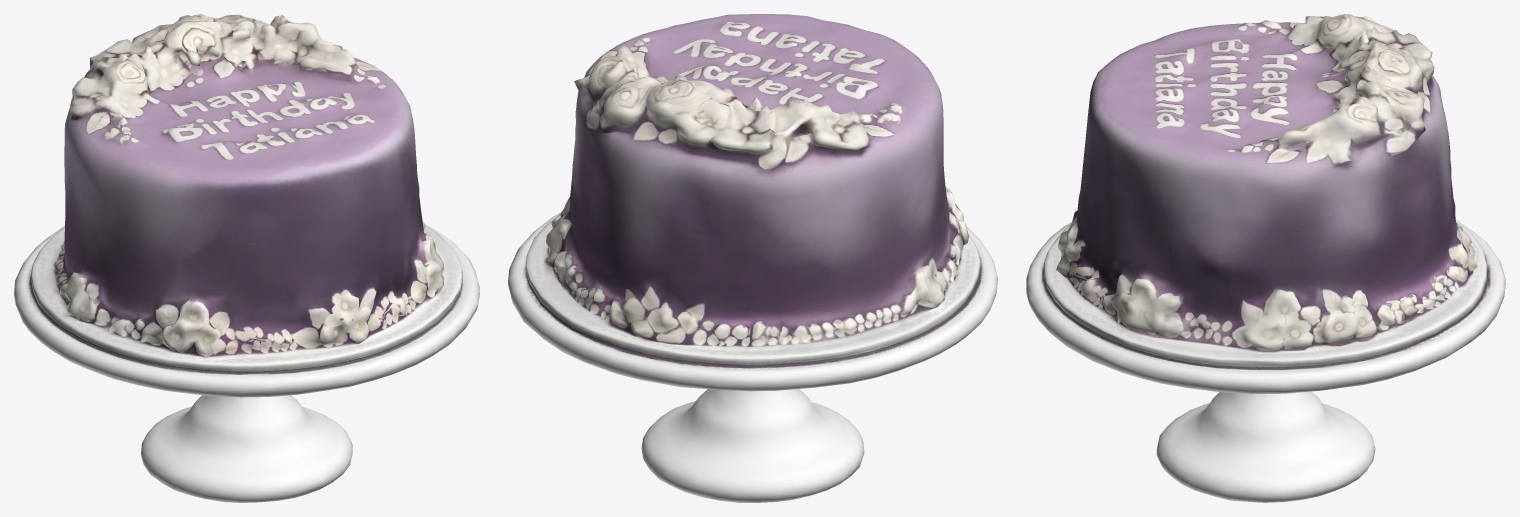
Rendered from happy_bday_cake.glb.
3 renders of one model, left to right at view 1: azimuth 30°, elevation 25°; view 2: azimuth 150°, elevation 25°; view 3: azimuth 270°, elevation 25°, orthographic. The views are drawn at different scales.
Size of the model in its own units: 1.9 by 1.82 by 1.9.
1 material, 1 textured.
